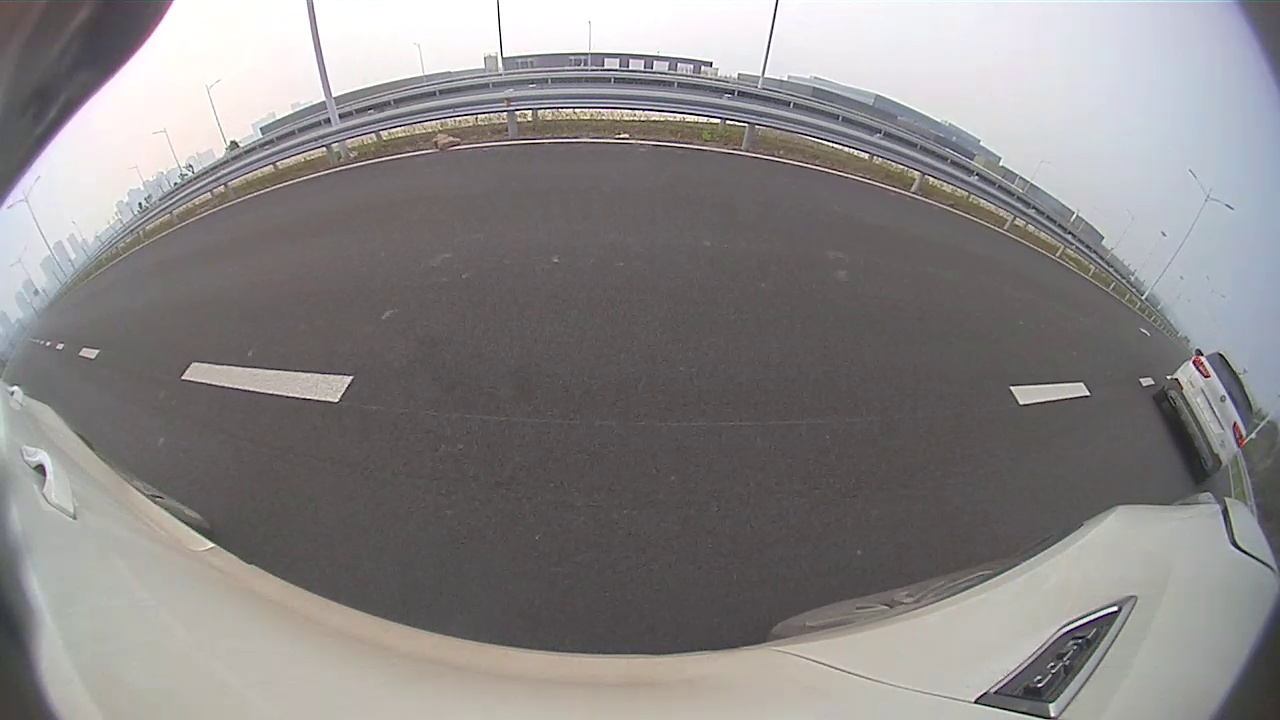car: (1152, 349, 1253, 485)
